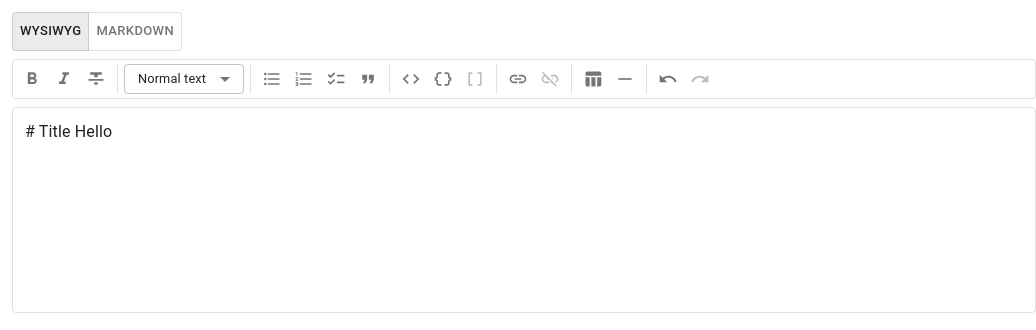
Test: MarkdownPanelEditor › switches to source mode and shows the markdown TextField populated with value
The image size is (1036, 330).
Click the button with aria-label "Markdown source" at point(135, 31), box [88,12,182,51]
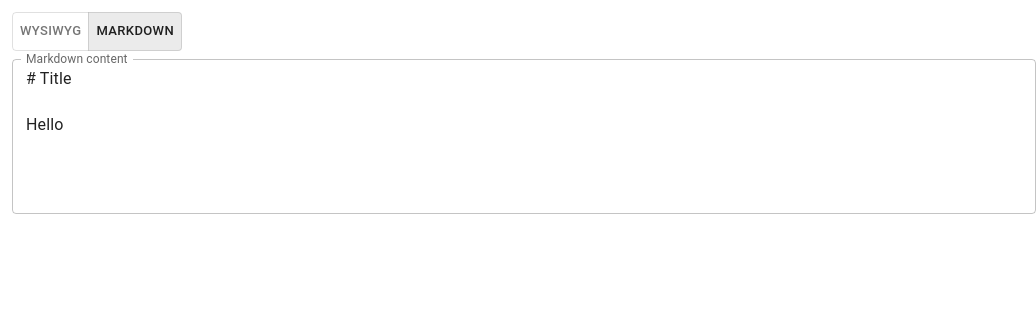
Now the text box labelled "Markdown content" is shown, box [26,67,1022,205]
